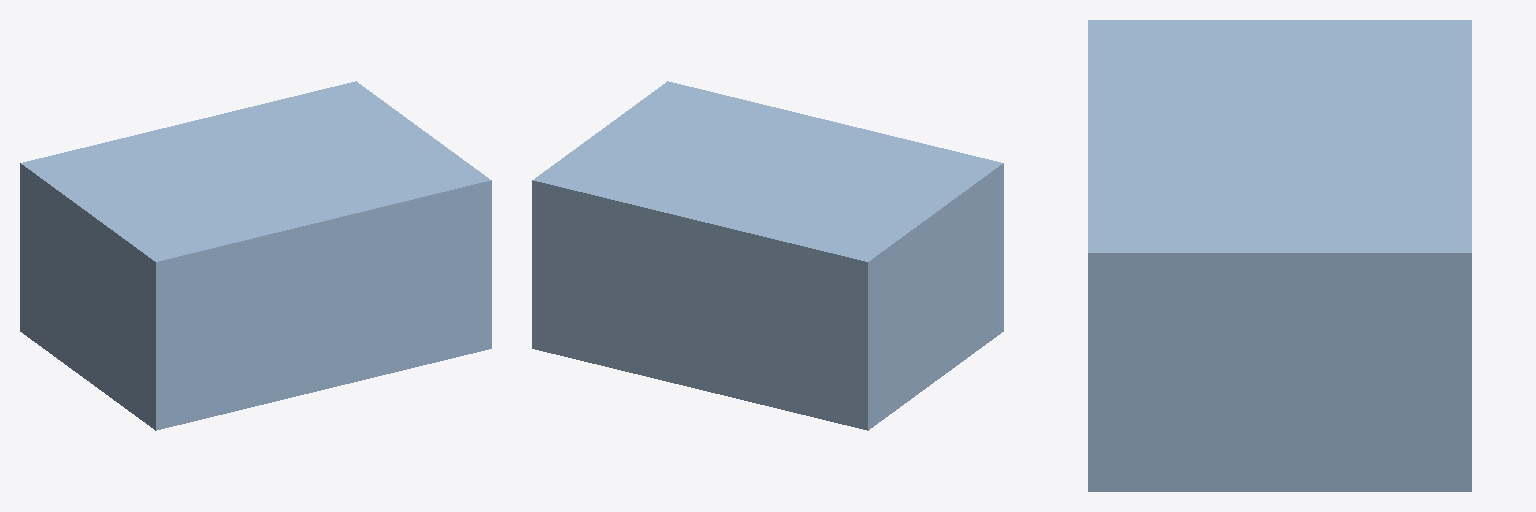
URDF robot description (box_59):
<?xml version="1.0" ?>
<robot name="box_59">
  <dynamics damping="0.5" friction="0.9"/>
  <link name="baseLink">
    <inertial>
      <mass value="0.1"/>
      <origin xyz="0 0 0"/>
      <inertia ixx="0.00089374222" ixy="0" ixz="0" iyy="0.0015316627" iyz="0" izz="0.0018520905"/>
    </inertial>
    <contact>
      <lateral_friction value="0.9"/>
      <rolling_friction value="0.5"/>
      <stiffness value="30000"/>
      <damping value="1000"/>
    </contact>
    <visual>
      <origin rpy="0 0 0" xyz="0 0 0"/>
      <geometry>
        <mesh filename="box_59.obj" scale="1.0 1.0 1.0"/>
      </geometry>
      <material name="mat">
        <color rgba="0.7 0.8 0.9 1"/>
      </material>
    </visual>
    <collision>
      <origin rpy="0 0 0" xyz="0 0 0"/>
      <geometry>
        <mesh filename="box_59.obj" scale="1.0 1.0 1.0"/>
      </geometry>
    </collision>
  </link>
</robot>

--- Facts derived from the render (not from the file) ---
Views: 3 orthographic renders of the robot side by side, from view 1: azimuth 30°, elevation 25°; view 2: azimuth 150°, elevation 25°; view 3: azimuth 270°, elevation 25°.
Robot: box_59 — 1 links, 0 joints (none); root link baseLink; default pose: all joints at 0.
Visible links, largest first — view 1: baseLink; view 2: baseLink; view 3: baseLink.
Boxes of the visible links, bbox=[...] form: baseLink: bbox=[20, 81, 491, 430]; baseLink: bbox=[532, 81, 1003, 430]; baseLink: bbox=[1088, 20, 1471, 491].
Bounding box of the posed robot: 0.3865 × 0.2699 × 0.1855 m (x, y, z).
Meshes: 1 distinct files referenced, 1 mesh visuals loaded (1 OBJ).
